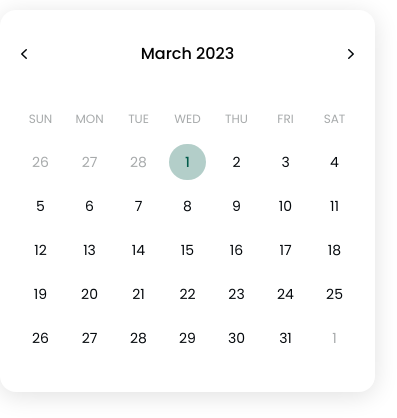
Test: CalendarComponent › increments month
Check: the text "March 2023" is shown, box x1=141 y1=42 x2=234 y2=65
Click the element with test id "next-month".
click(351, 54)  # box x1=343 y1=46 x2=359 y2=62
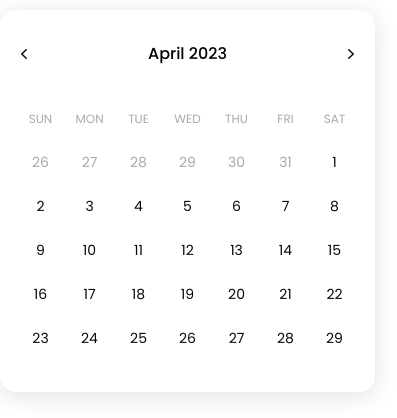
Check: the text "March 2023" is gone
Check: the text "April 2023" is shown, box x1=148 y1=42 x2=227 y2=65
